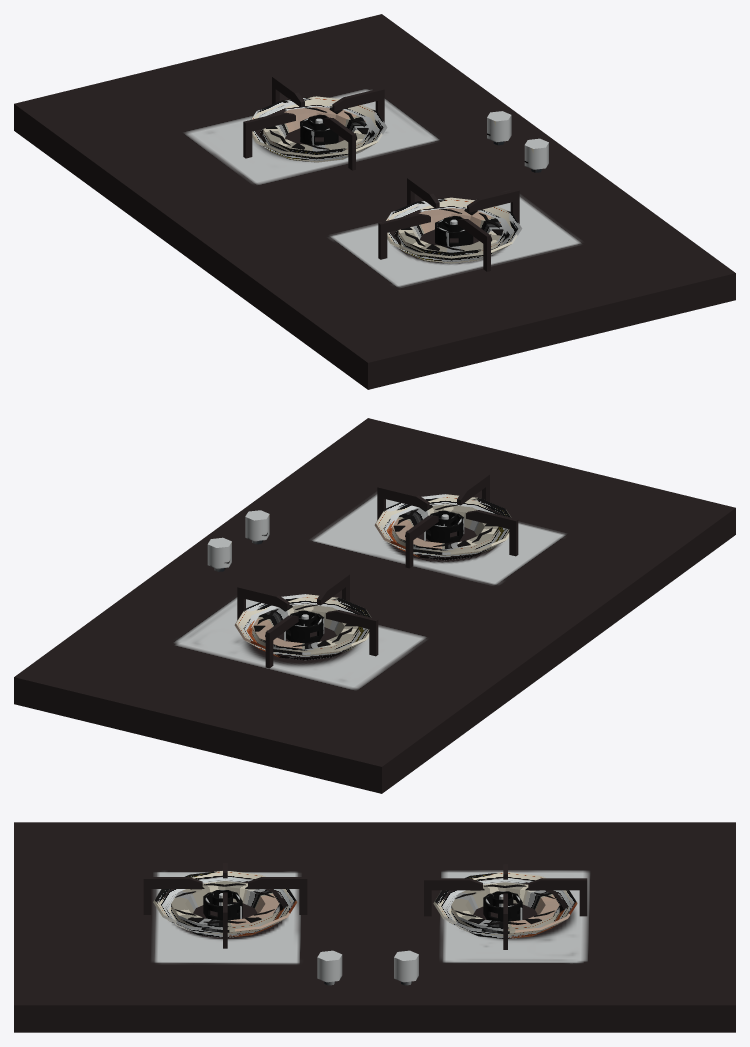
Rendered from aws_CookingBench_01.DAE.
3 views of the same model, one above another, from view 1: azimuth 30°, elevation 25°; view 2: azimuth 150°, elevation 25°; view 3: azimuth 270°, elevation 25° (orthographic).
Parts seen in each view (by area): view 1: aws_Cookingbench_01; view 2: aws_Cookingbench_01; view 3: aws_Cookingbench_01.
Part boxes in pixels (box(x1,y1,x2,y2)): aws_Cookingbench_01: box(14, 14, 735, 389); aws_Cookingbench_01: box(14, 418, 735, 793); aws_Cookingbench_01: box(14, 822, 735, 1032).
Size of what is drawn, in the model's own units: 60 by 100 by 9.69.
